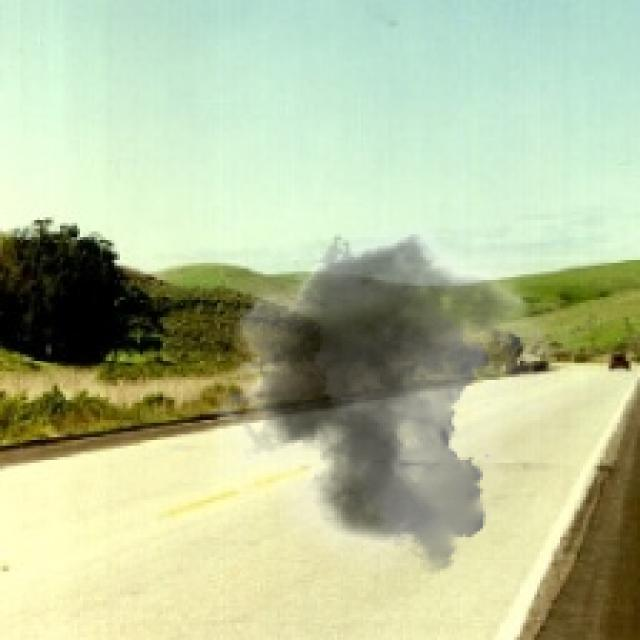Smoke: (194, 202, 592, 574)
